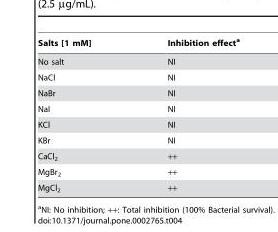table: (37, 36, 238, 192)
table column: (128, 36, 238, 192), (37, 36, 128, 192)
table column header: (37, 36, 238, 52)
table row: (37, 52, 238, 69), (37, 36, 238, 52), (37, 69, 238, 85), (37, 100, 238, 116), (37, 116, 238, 132), (37, 147, 238, 163), (37, 85, 238, 100), (37, 132, 238, 147), (37, 163, 238, 178), (37, 178, 238, 192)
